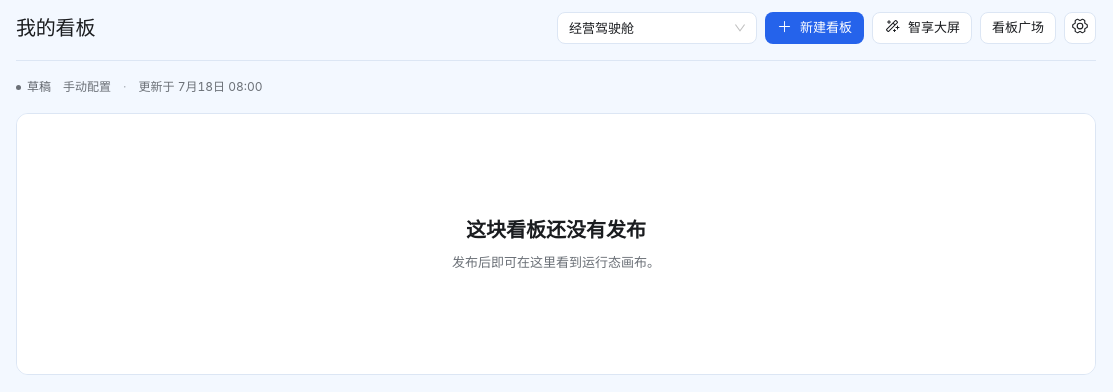
Test case: DashboardPage › persists the switched dashboard as the new current one
Step 1. Click the dropdown named "切换当前看板" → [602, 28], box [569,20,634,36]
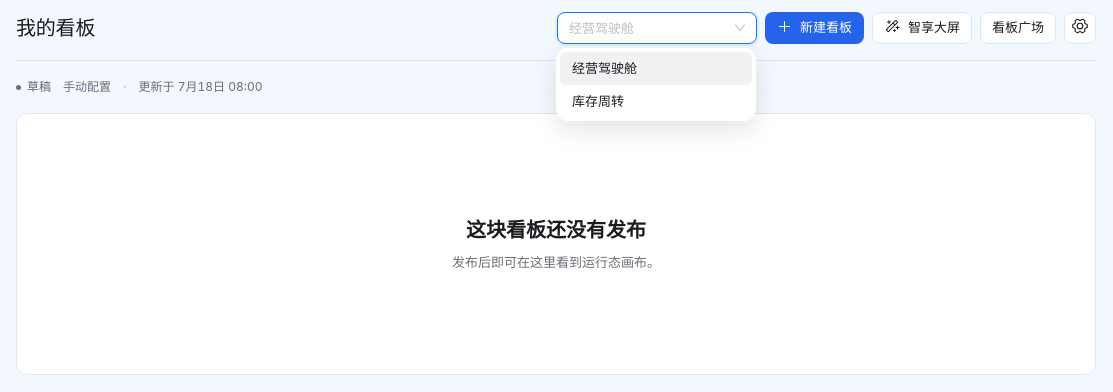
Step 2. Click the option titled "库存周转" → [598, 101], box [572,93,624,109]
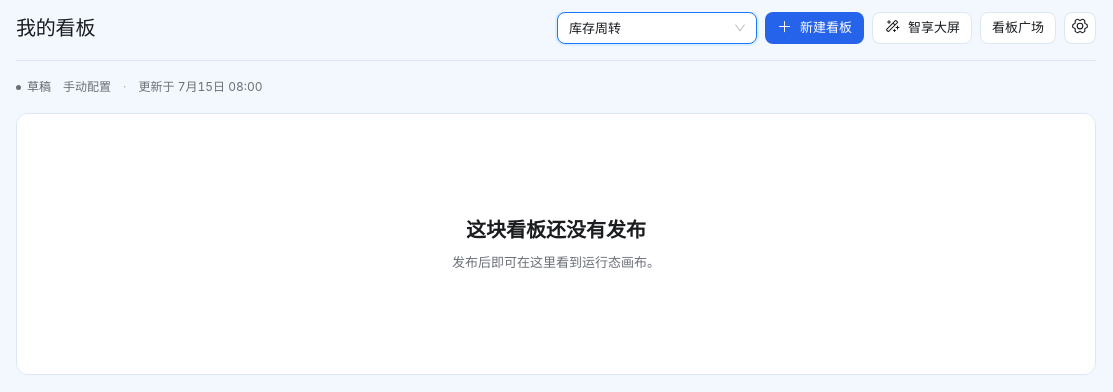
Now the element named "当前看板：库存周转" is shown
